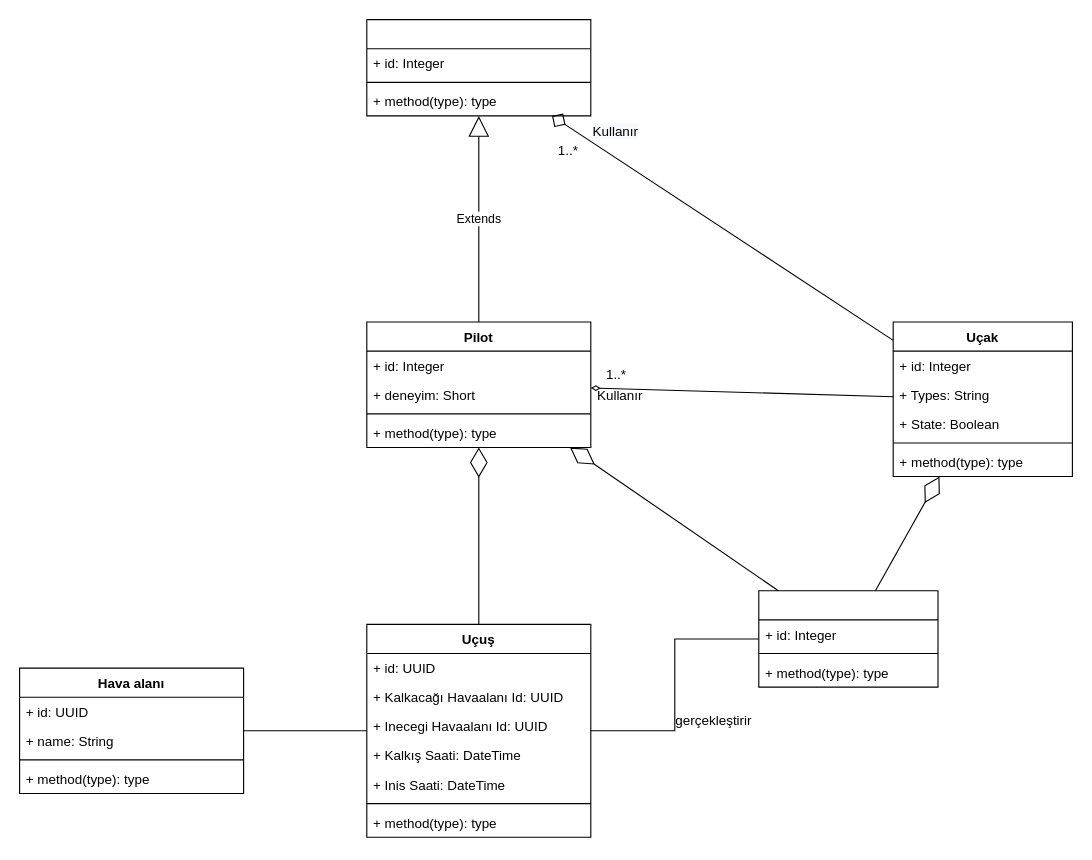
This 1092x860 diagram has some shape labels left out. The box of each missing label's shape, as (x1, y1, x2, y2) in pixels:
Havayolu şirleti: (758, 590, 938, 687)
Yardımcı Pilot: (366, 18, 591, 116)
